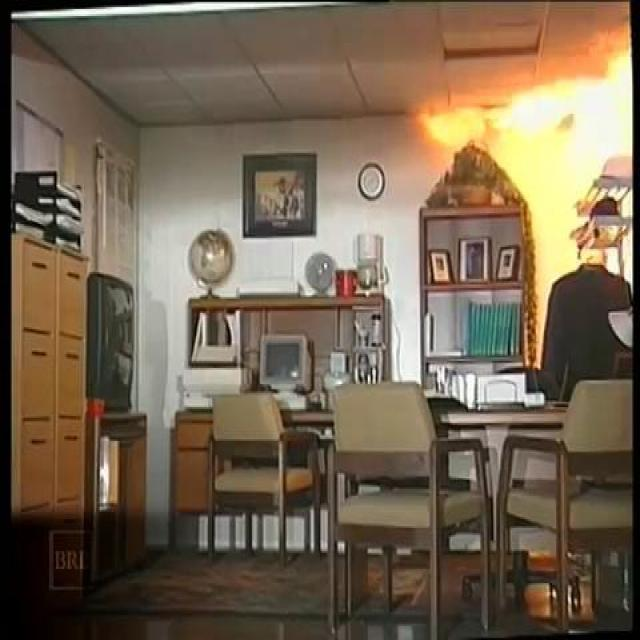fire: (418, 37, 640, 222)
